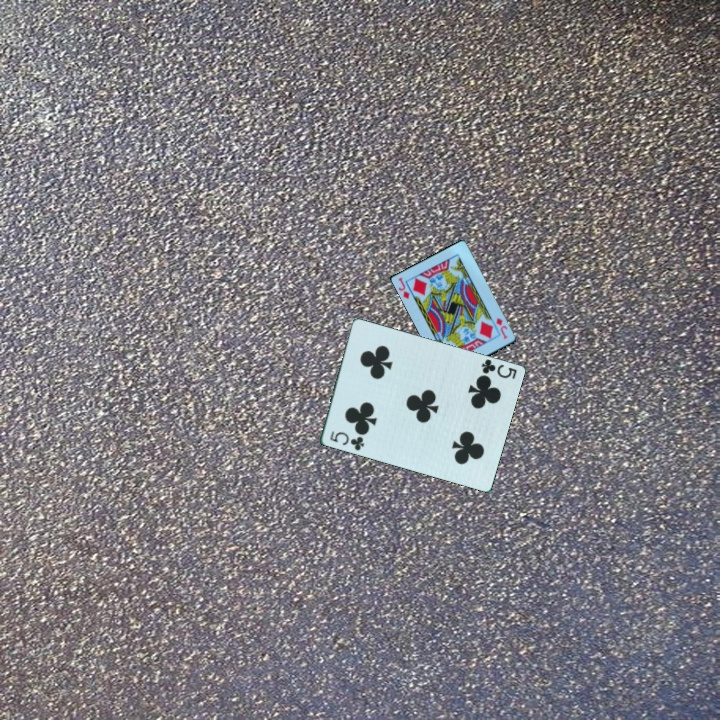5c: (477, 356, 519, 382), (326, 428, 367, 454)
Jd: (493, 314, 511, 342), (395, 274, 413, 302)
